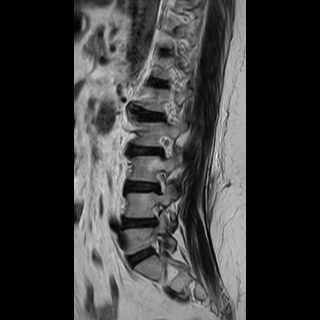LFS0: (147, 165, 172, 197)
